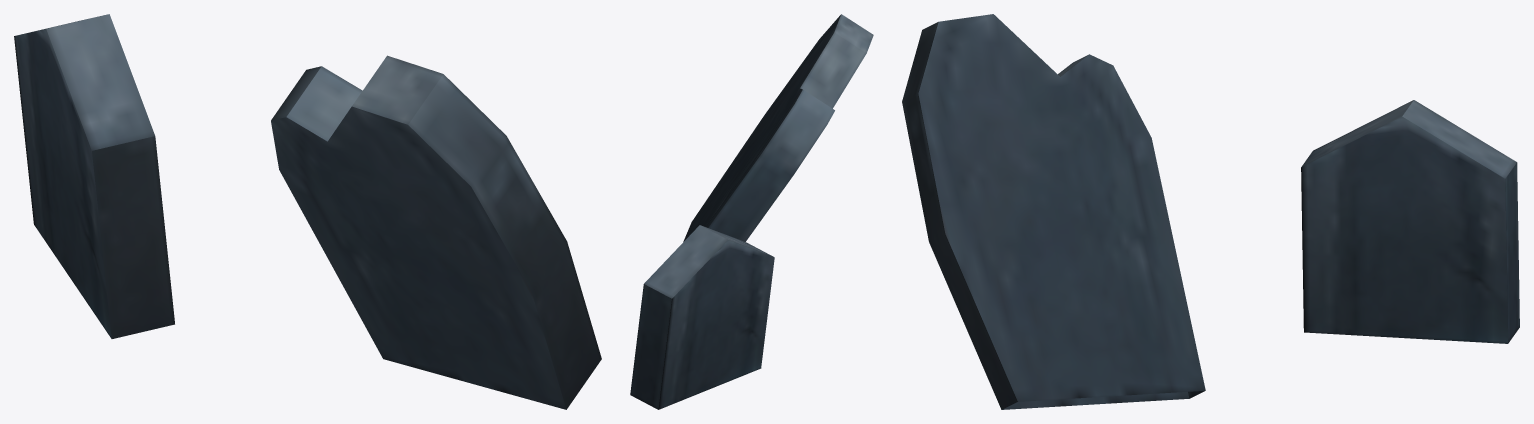
The model's file is Area_04_50.fbx.
The picture shows the model from 3 angles, left to right: view 1: azimuth 30°, elevation 25°; view 2: azimuth 150°, elevation 25°; view 3: azimuth 270°, elevation 25°; orthographic projection. The views are drawn at different scales.
Parts seen in each view (by area): view 1: Area_04_50; view 2: Area_04_50; view 3: Area_04_50.
Boxes of the visible parts, x1,y1,x2,y2 form: Area_04_50: [14, 14, 601, 409]; Area_04_50: [630, 14, 873, 409]; Area_04_50: [902, 14, 1519, 409].
Bounding box in the file's own units: 301 × 372 × 614.
